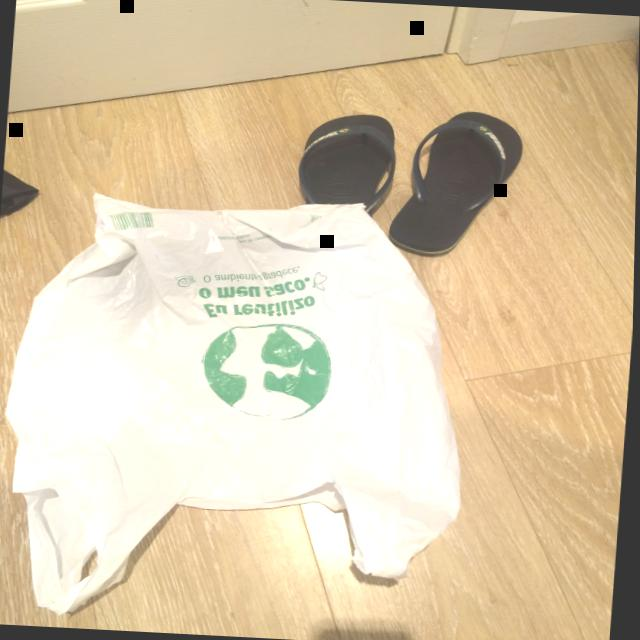Shoe: (390, 112, 523, 255), (299, 115, 396, 218)
Single-use carrier bag: (7, 192, 462, 615)
